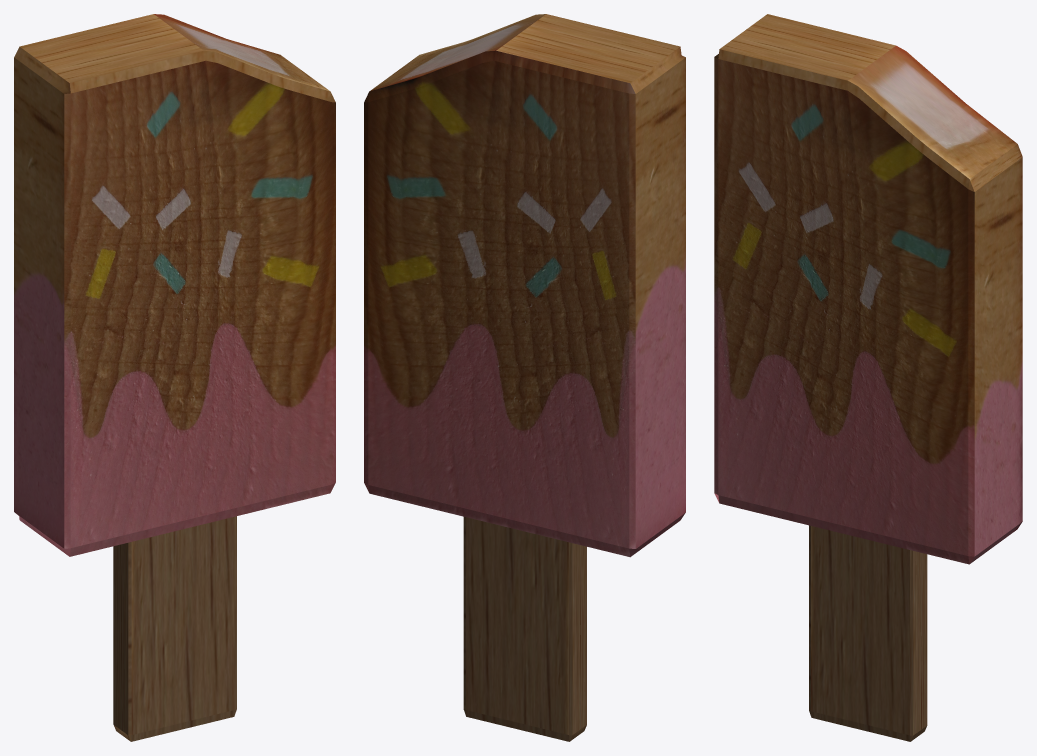
File: WoodenIceCream.fbx
3 views of the same model, side by side, from view 1: azimuth 30°, elevation 25°; view 2: azimuth 150°, elevation 25°; view 3: azimuth 330°, elevation 25° (orthographic). The views are drawn at different scales.
Parts seen in each view (by area): view 1: IceCream; view 2: IceCream; view 3: IceCream.
Part boxes in pixels (<box>): IceCream: <box>14,14,335,741</box>; IceCream: <box>364,14,685,741</box>; IceCream: <box>714,14,1022,741</box>.
Bounding box in the file's own units: 3 × 7.29 × 1.
